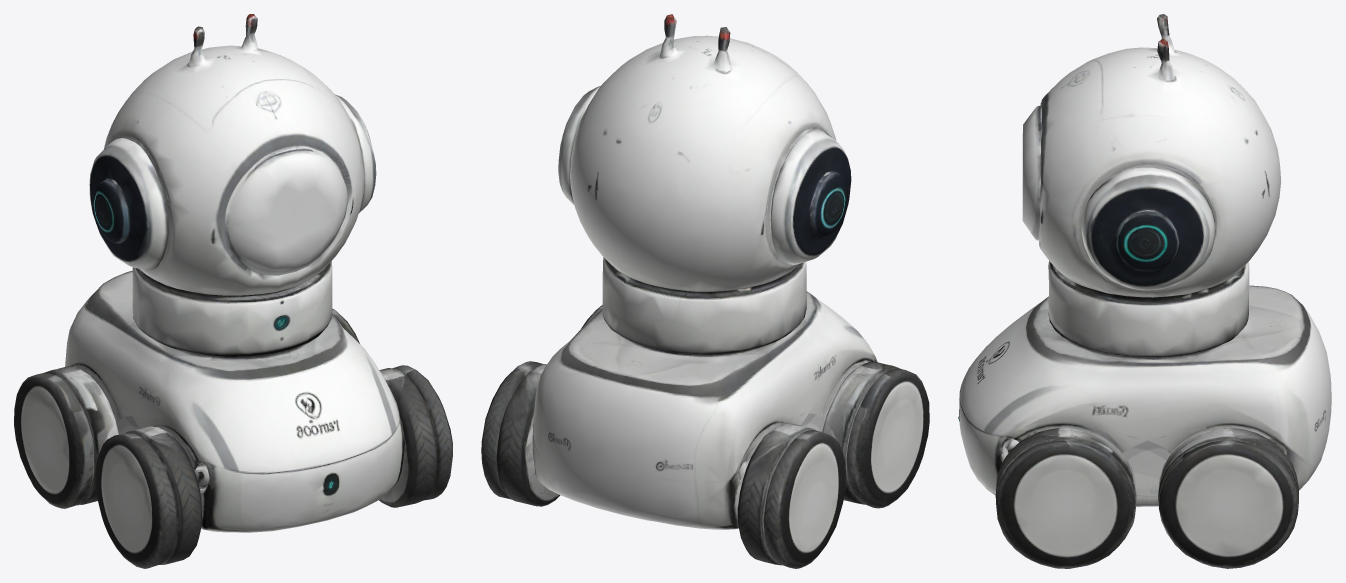
File: Bot_collector_0122141515_texture.fbx
The picture shows the model from 3 angles, left to right: view 1: azimuth 30°, elevation 25°; view 2: azimuth 150°, elevation 25°; view 3: azimuth 270°, elevation 25°; orthographic projection. The views are drawn at different scales.
Visible parts, largest first — view 1: Mesh1_Mesh1.003; view 2: Mesh1_Mesh1.003; view 3: Mesh1_Mesh1.003.
Boxes of the visible parts, bbox=[...] form: Mesh1_Mesh1.003: bbox=[14, 14, 452, 568]; Mesh1_Mesh1.003: bbox=[481, 14, 929, 568]; Mesh1_Mesh1.003: bbox=[958, 14, 1331, 568].
Size of the model in its own units: 131 by 201 by 144.
1 material, 1 textured.
